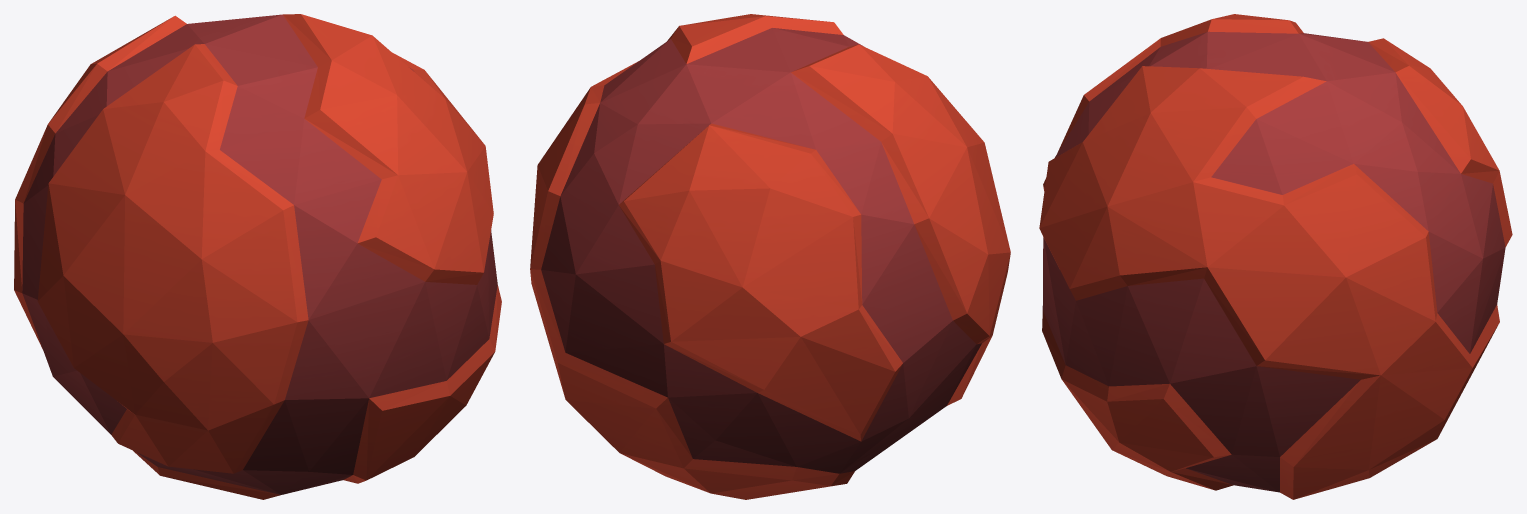
File: Body.fbx
The picture shows the model from 3 angles, left to right: view 1: azimuth 30°, elevation 25°; view 2: azimuth 150°, elevation 25°; view 3: azimuth 270°, elevation 25°; orthographic projection. The views are drawn at different scales.
Visible parts, largest first — view 1: Body; view 2: Body; view 3: Body.
Part boxes in pixels (left/top/right/bottom): Body: left=14, top=14, right=501, bottom=499; Body: left=530, top=14, right=1010, bottom=499; Body: left=1039, top=14, right=1512, bottom=499.
Size of the model in its own units: 429 by 422 by 418.
1 material, 1 textured.
